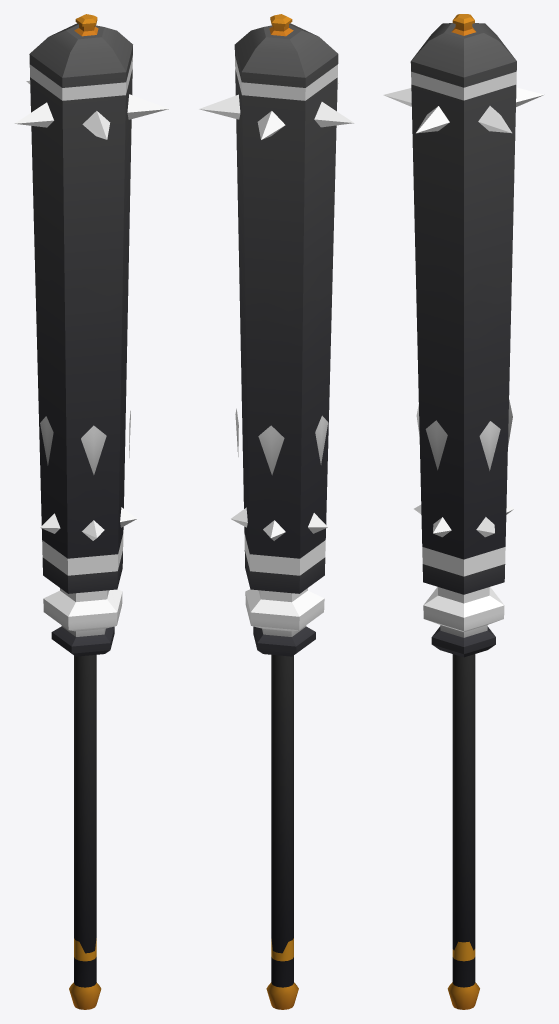
The model's file is Weapon_mallet.fbx.
3 views of the same model, side by side, from view 1: azimuth 30°, elevation 25°; view 2: azimuth 150°, elevation 25°; view 3: azimuth 270°, elevation 25° (orthographic).
Parts seen in each view (by area): view 1: W_MC_2; view 2: W_MC_2; view 3: W_MC_2.
Boxes of the visible parts, x1,y1,x2,y2 form: W_MC_2: (14,14,168,1009); W_MC_2: (199,14,353,1009); W_MC_2: (383,14,544,1009).
Bounding box in the file's own units: 15.46 × 111 × 16.43.
